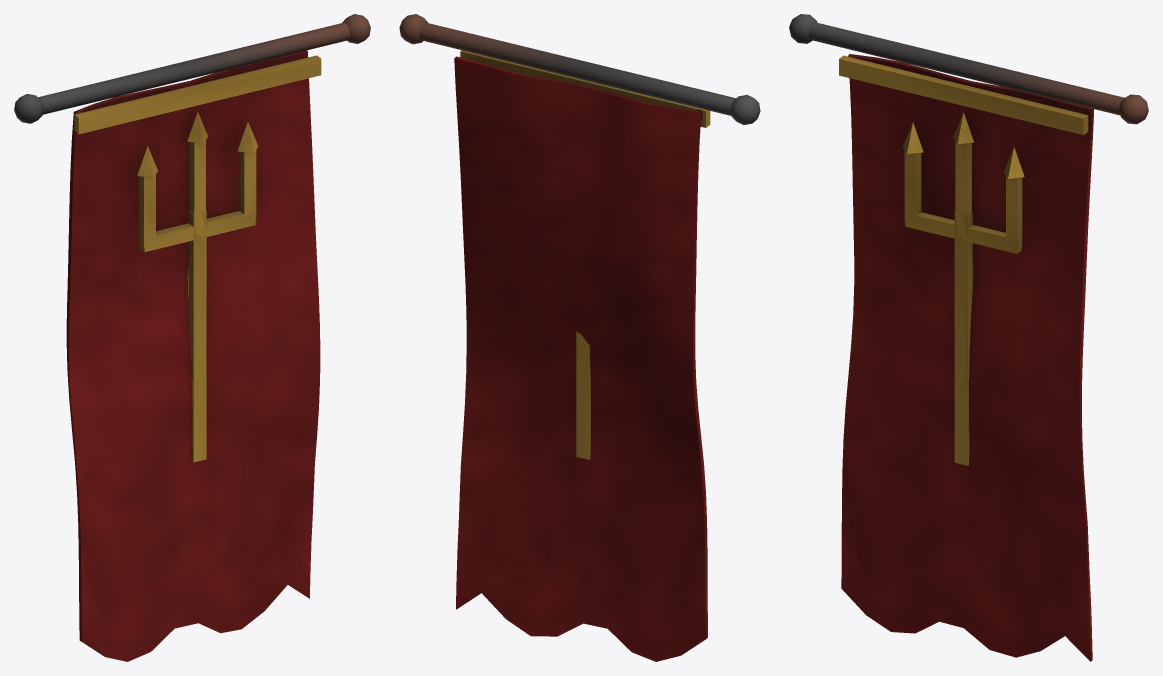
Rendered from cenario_estandarte_tridente.glb.
3 views of the same model, side by side, from view 1: azimuth 30°, elevation 25°; view 2: azimuth 150°, elevation 25°; view 3: azimuth 330°, elevation 25° (orthographic).
Parts seen in each view (by area): view 1: cenario_estandarte_tridente; view 2: cenario_estandarte_tridente; view 3: cenario_estandarte_tridente.
Boxes of the visible parts, x1=… form: cenario_estandarte_tridente: x1=14, y1=14, x2=370, y2=661; cenario_estandarte_tridente: x1=399, y1=14, x2=760, y2=661; cenario_estandarte_tridente: x1=789, y1=14, x2=1148, y2=661.
Bounding box in the file's own units: 1.34 × 2.12 × 0.1265.
Materials: 1 (1 with a texture image).
